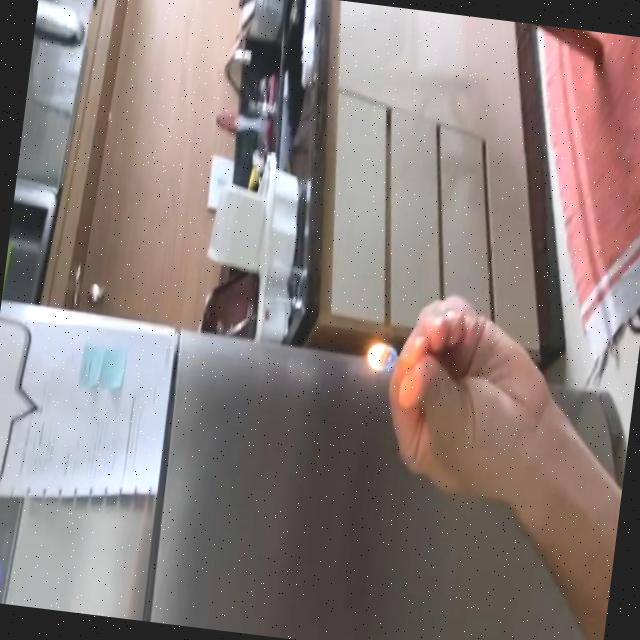fire: (364, 341, 396, 374)
